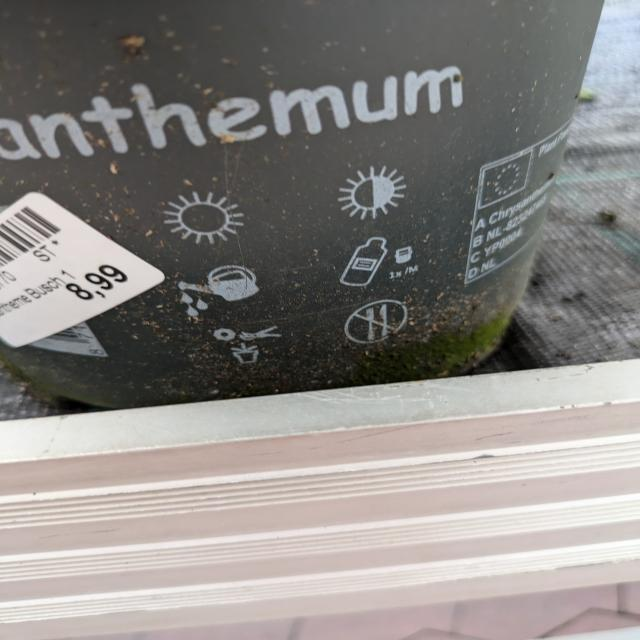dungen: (335, 231, 426, 292)
halb sonnig schattig: (321, 159, 411, 219)
sonnig: (157, 183, 249, 247)
viel giesen: (179, 257, 269, 324)
